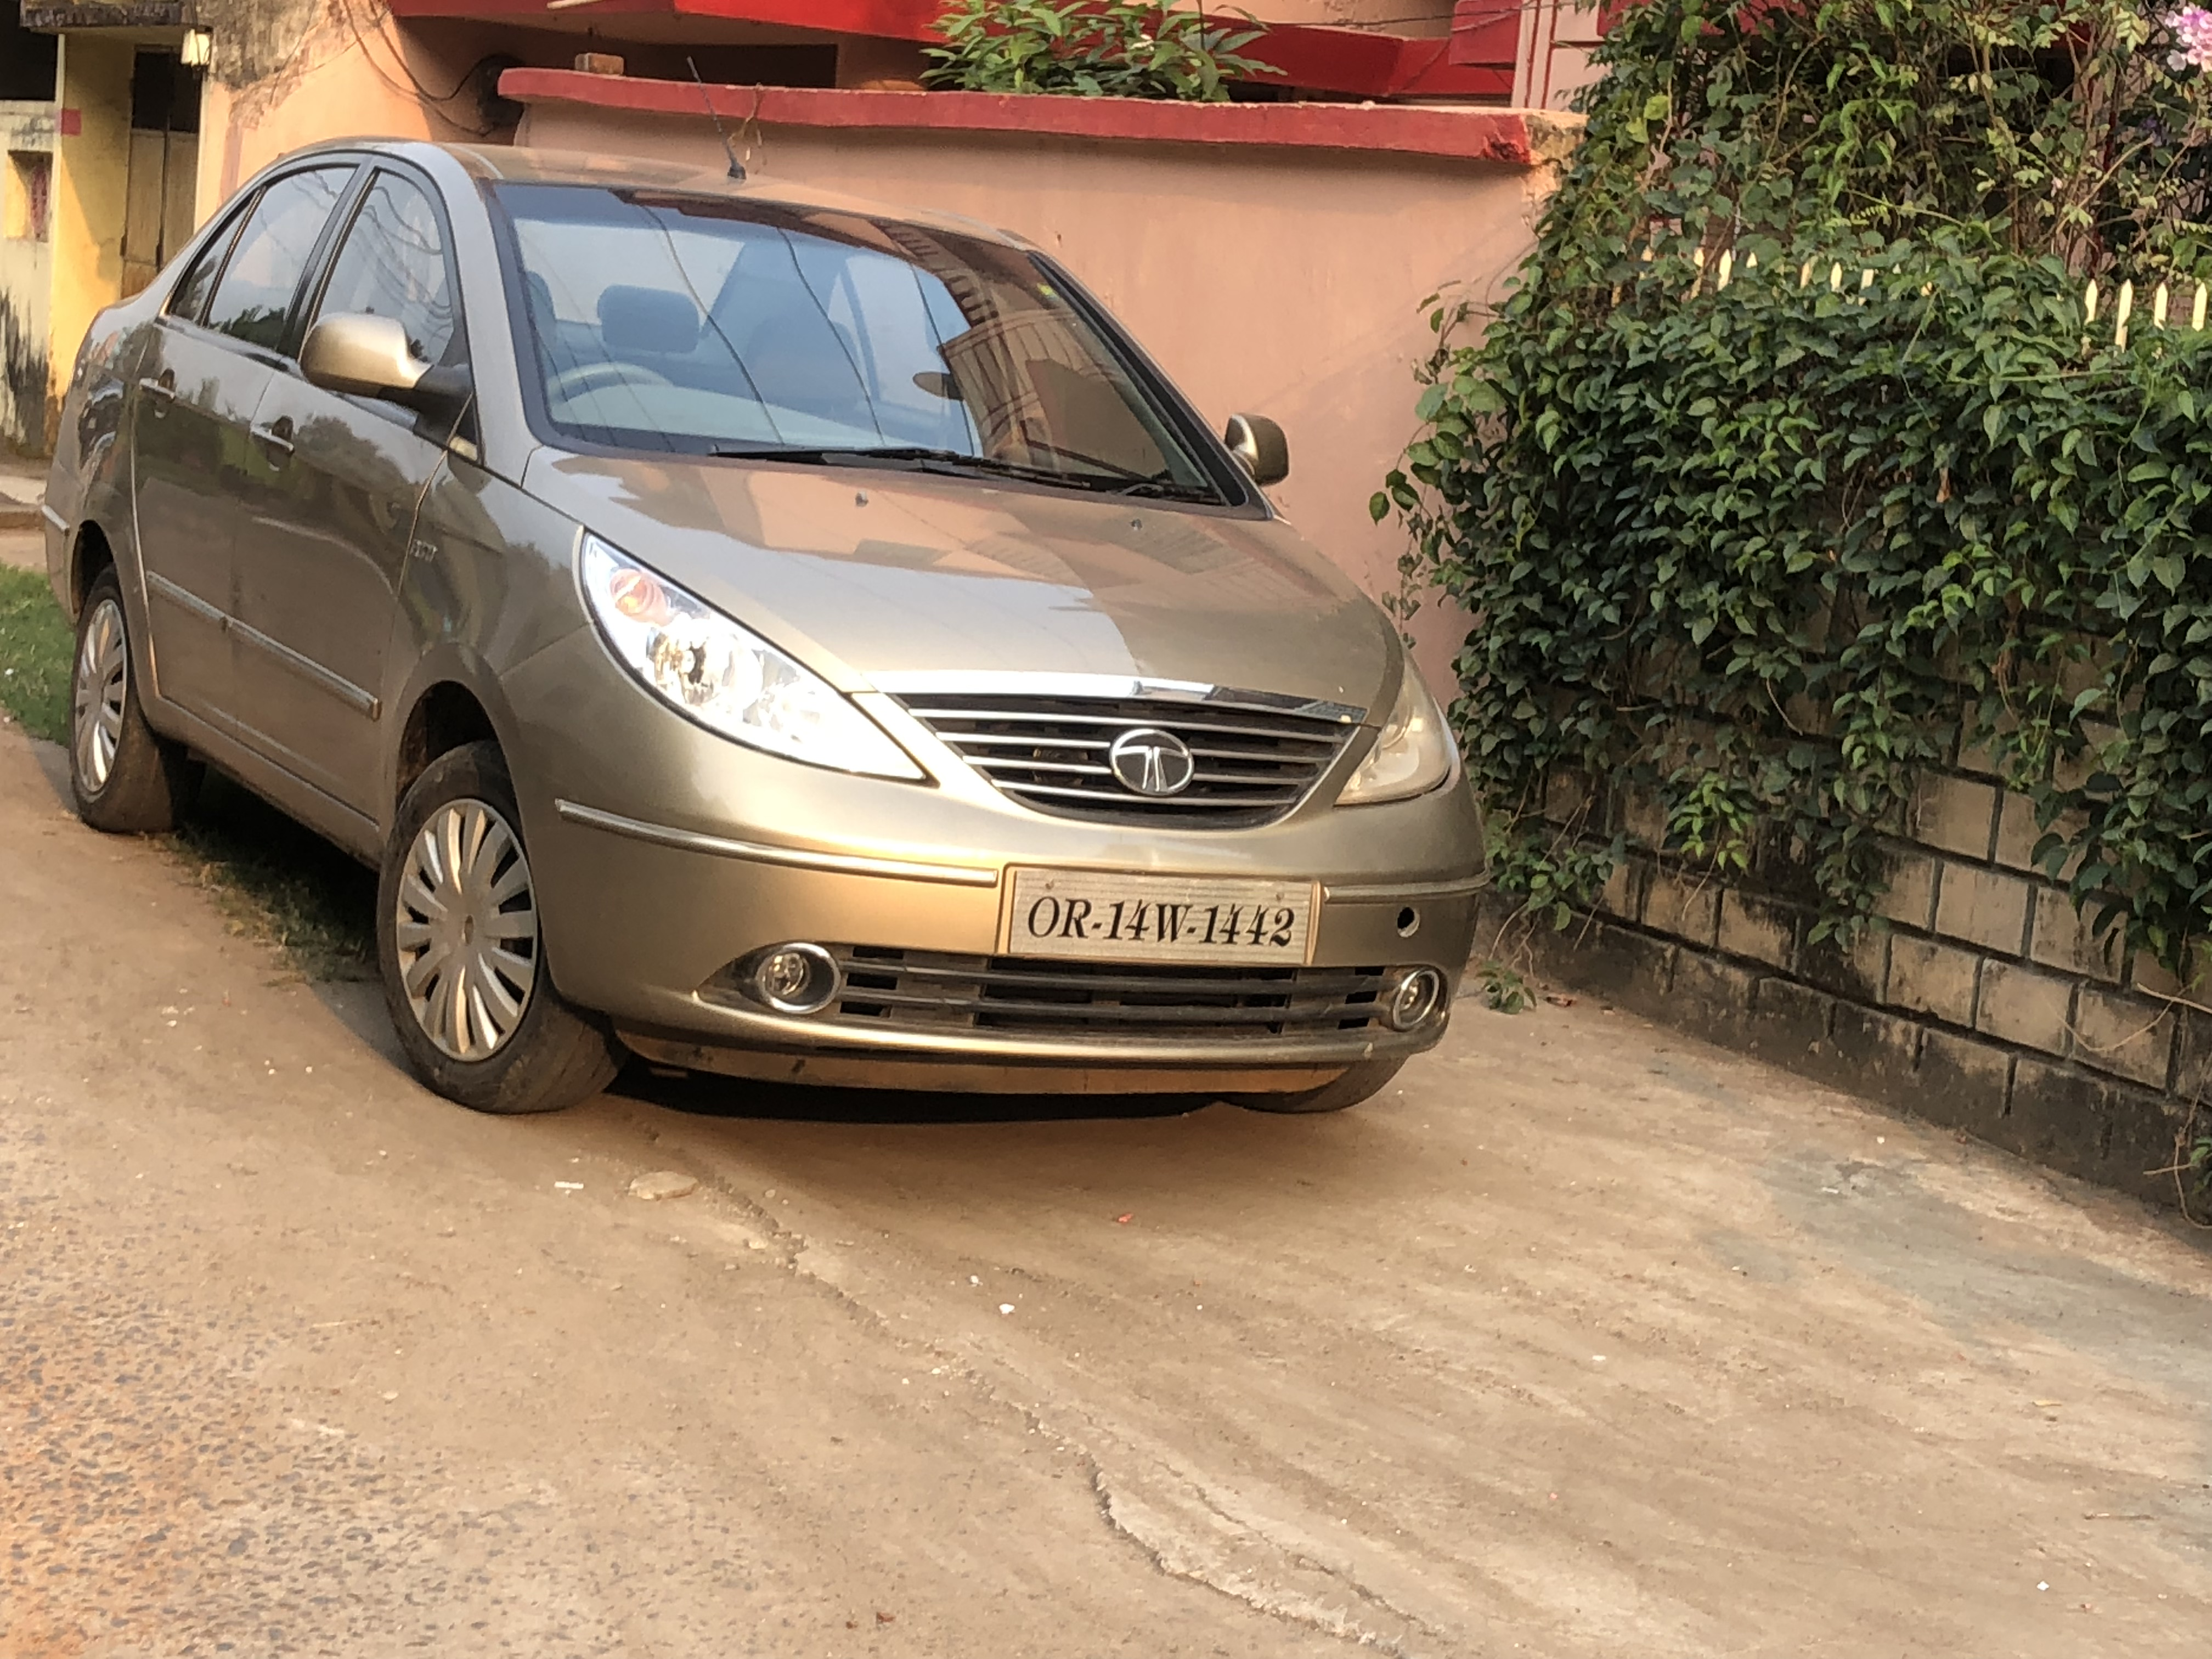licenseplate: (991, 859, 1335, 979)
